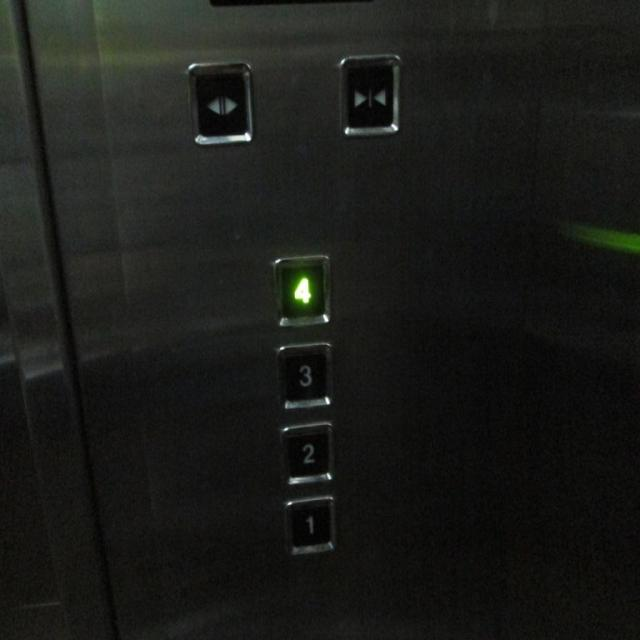1: (283, 494, 337, 558)
2: (279, 420, 335, 488)
3: (275, 341, 333, 414)
4: (270, 250, 332, 328)
close: (336, 53, 402, 135)
open: (185, 60, 254, 146)
